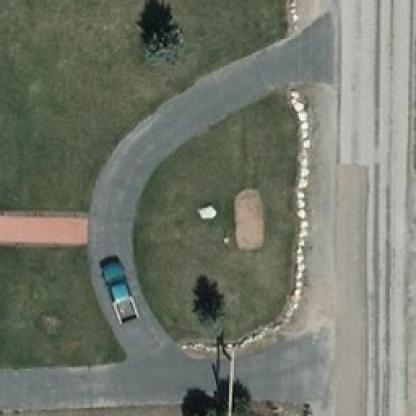car: (96, 252, 138, 322)
